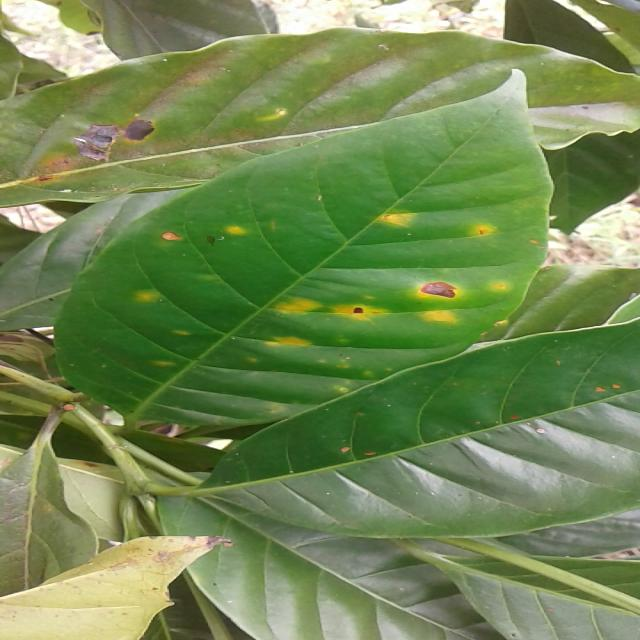Enfermedad-Roya: (53, 71, 555, 430)
